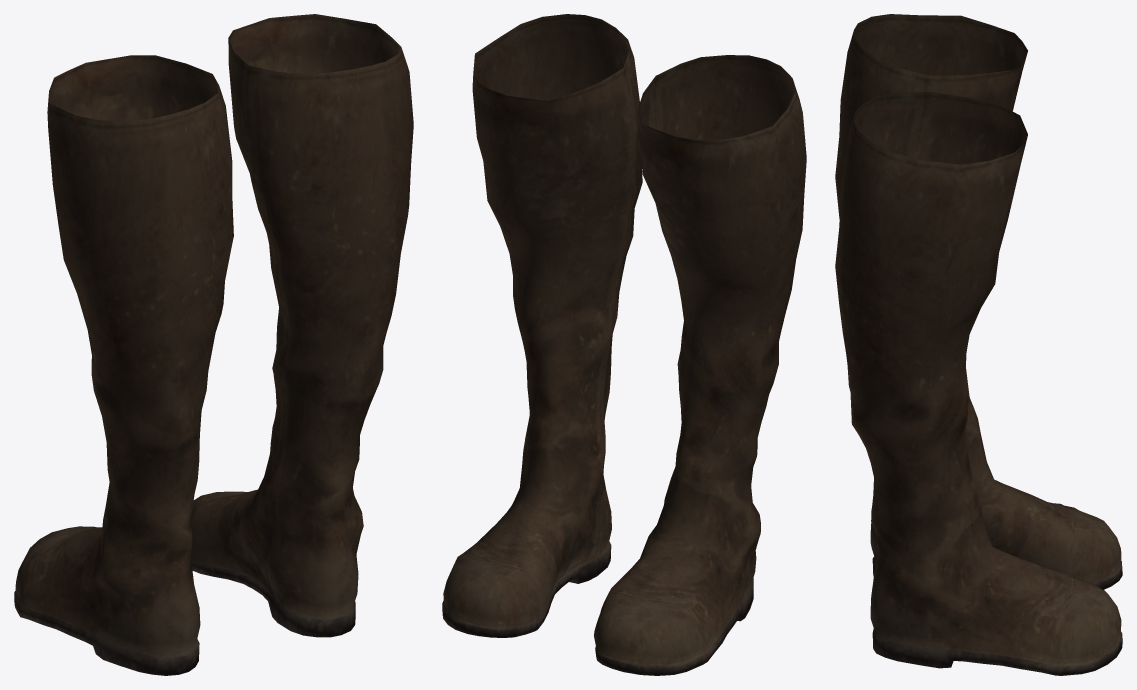
File: LeatherBoots.fbx
3 renders of one model, left to right at view 1: azimuth 30°, elevation 25°; view 2: azimuth 150°, elevation 25°; view 3: azimuth 270°, elevation 25°, orthographic. The views are drawn at different scales.
Visible parts, largest first — view 1: LeatherBoots; view 2: LeatherBoots; view 3: LeatherBoots.
Part boxes in pixels (bbox=[...]): LeatherBoots: bbox=[14, 14, 413, 675]; LeatherBoots: bbox=[442, 14, 806, 675]; LeatherBoots: bbox=[835, 14, 1122, 675].
Size of the model in its own units: 32.53 by 53.95 by 26.09.
